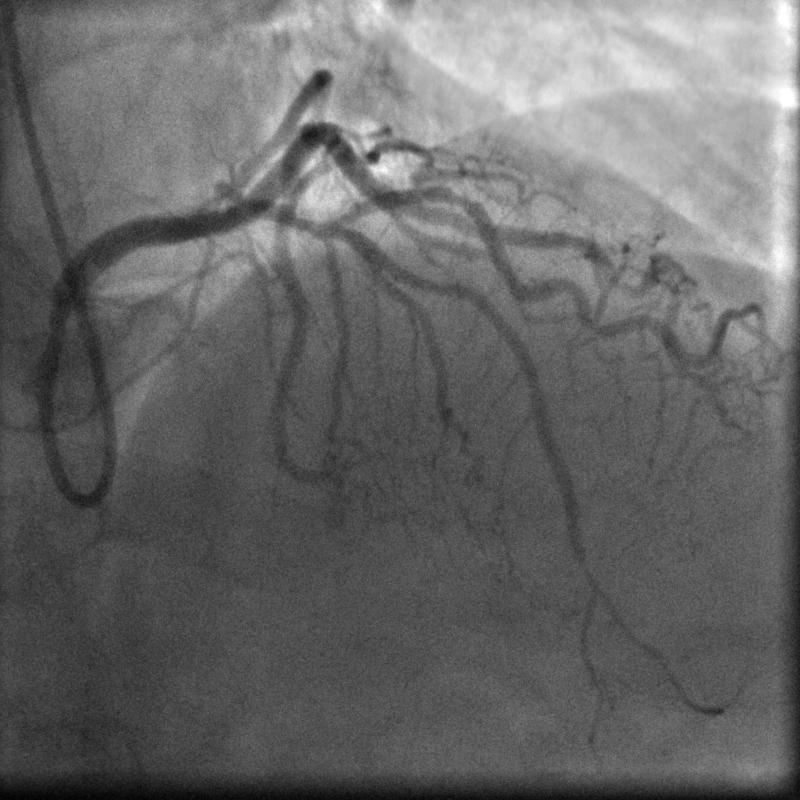Stenosis: (441, 180, 485, 225)
